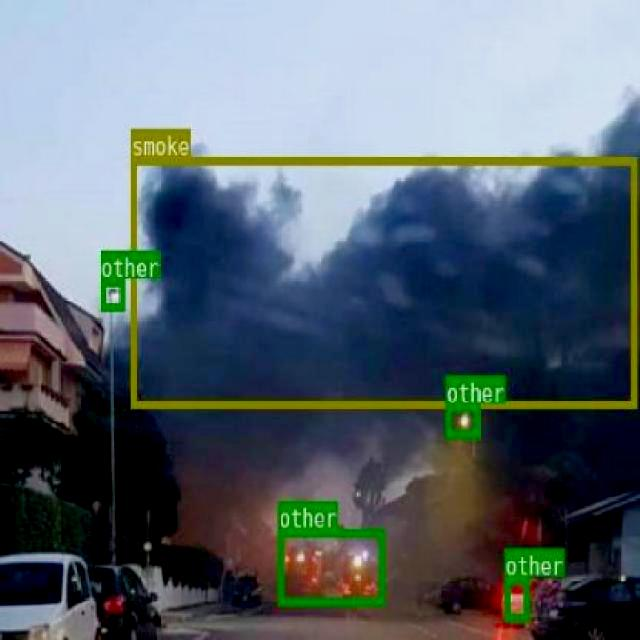smoke: (129, 156, 637, 407)
